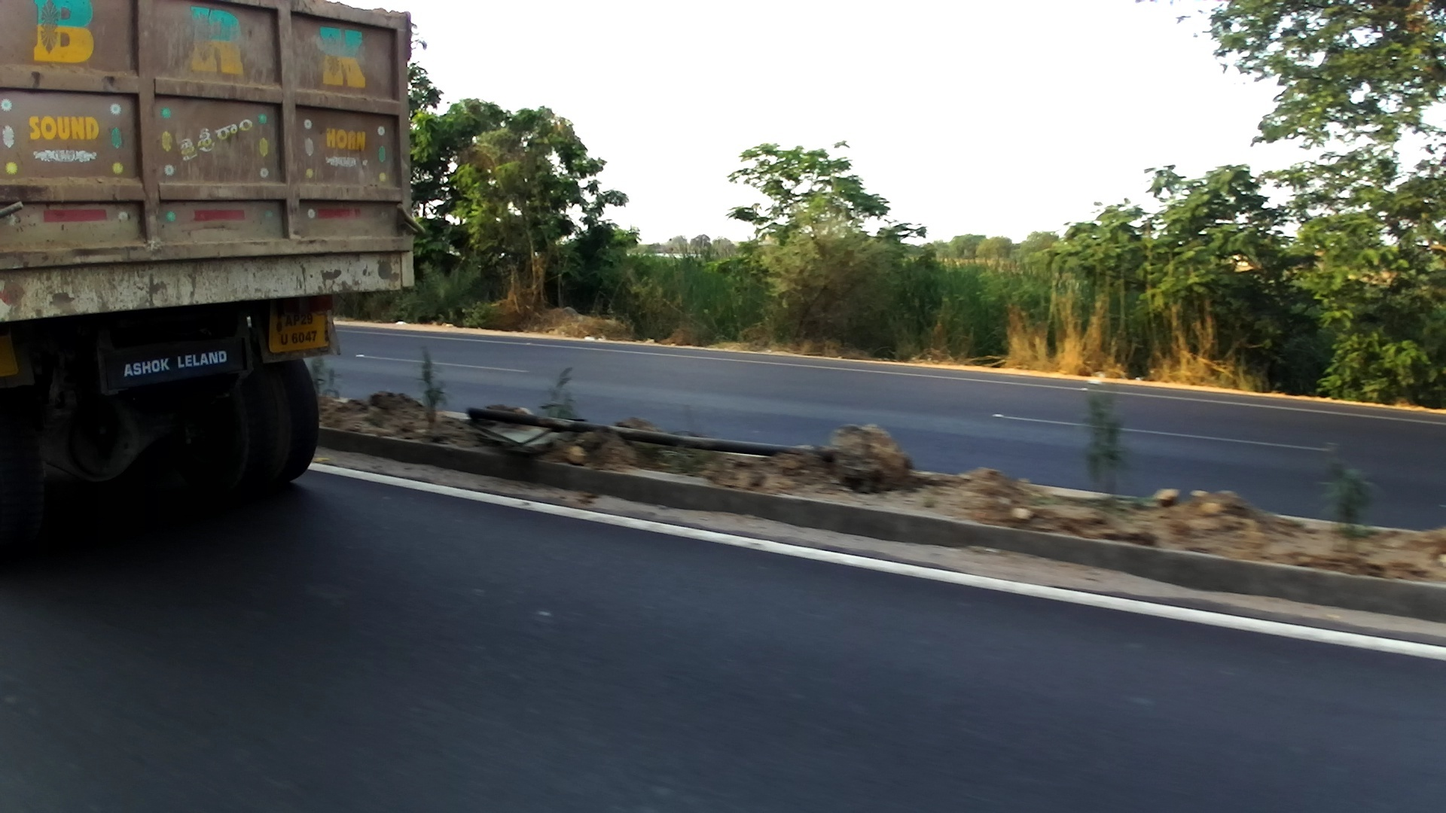truck: (2, 0, 425, 546)
